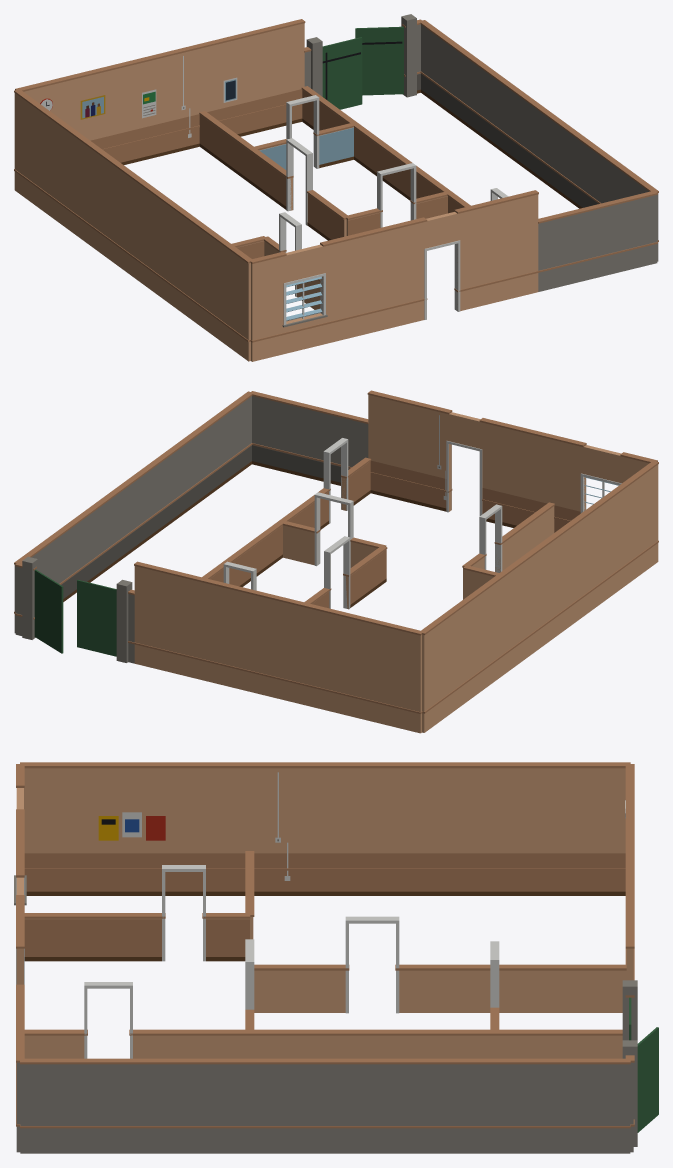
File: building_home-family-house.glb
The picture shows the model from 3 angles, top to bottom: view 1: azimuth 30°, elevation 25°; view 2: azimuth 150°, elevation 25°; view 3: azimuth 270°, elevation 25°; orthographic projection. The views are drawn at different scales.
Parts seen in each view (by area): view 1: wall_front_full, wall_back_full, wall_left_full, body, wall_right_full, wall_back_low, wall_left_low, wall_front_low, wall_right_low; view 2: wall_back_full, wall_front_full, wall_left_full, wall_right_full, body, wall_left_low, wall_front_low, wall_right_low, wall_back_low; view 3: wall_left_full, wall_right_full, body, wall_right_low, wall_back_full, wall_front_full, wall_left_low.
Boxes of the visible parts, x1=… form: wall_front_full: x1=250, y1=190, x2=657, y2=361; wall_back_full: x1=15, y1=14, x2=421, y2=150; wall_left_full: x1=14, y1=89, x2=253, y2=361; body: x1=199, y1=86, x2=508, y2=309; wall_right_full: x1=419, y1=20, x2=658, y2=261; wall_back_low: x1=102, y1=71, x2=420, y2=164; wall_left_low: x1=14, y1=169, x2=250, y2=361; wall_front_low: x1=250, y1=240, x2=657, y2=360; wall_right_low: x1=420, y1=71, x2=658, y2=248; wall_back_full: x1=15, y1=556, x2=423, y2=733; wall_front_full: x1=251, y1=390, x2=657, y2=532; wall_left_full: x1=421, y1=461, x2=658, y2=732; wall_right_full: x1=14, y1=391, x2=253, y2=633; body: x1=202, y1=438, x2=554, y2=609; wall_left_low: x1=422, y1=540, x2=658, y2=732; wall_front_low: x1=252, y1=441, x2=570, y2=525; wall_right_low: x1=14, y1=443, x2=252, y2=632; wall_back_low: x1=15, y1=612, x2=422, y2=727; wall_left_full: x1=20, y1=762, x2=630, y2=895; wall_right_full: x1=20, y1=1058, x2=630, y2=1153; body: x1=24, y1=851, x2=626, y2=1058; wall_right_low: x1=20, y1=1125, x2=630, y2=1153; wall_back_full: x1=622, y1=764, x2=658, y2=1152; wall_front_full: x1=14, y1=764, x2=26, y2=1152; wall_left_low: x1=24, y1=868, x2=625, y2=895.
Size of the model in its own units: 13.14 by 3.05 by 13.69.
